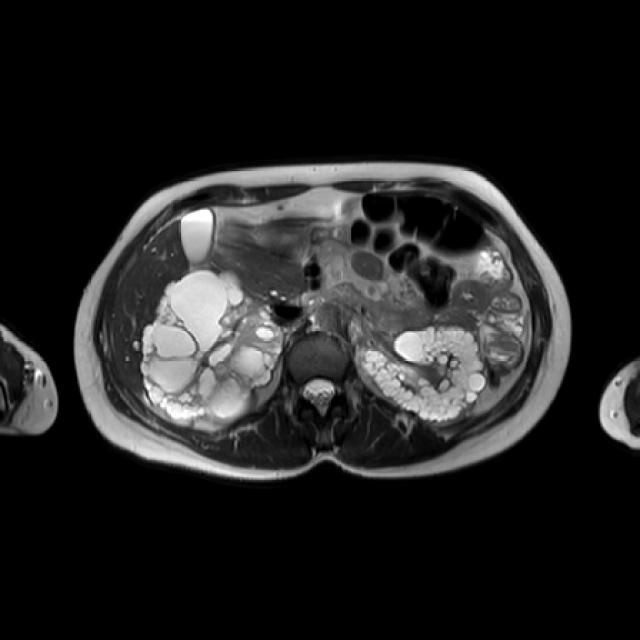sag: (142, 269, 285, 423)
sol: (366, 329, 484, 421)
